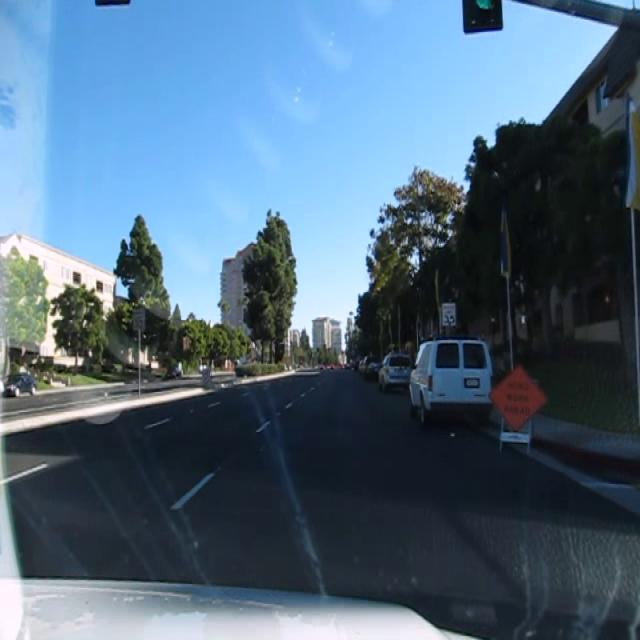speedLimit35: (440, 301, 456, 327), (131, 308, 145, 331)
